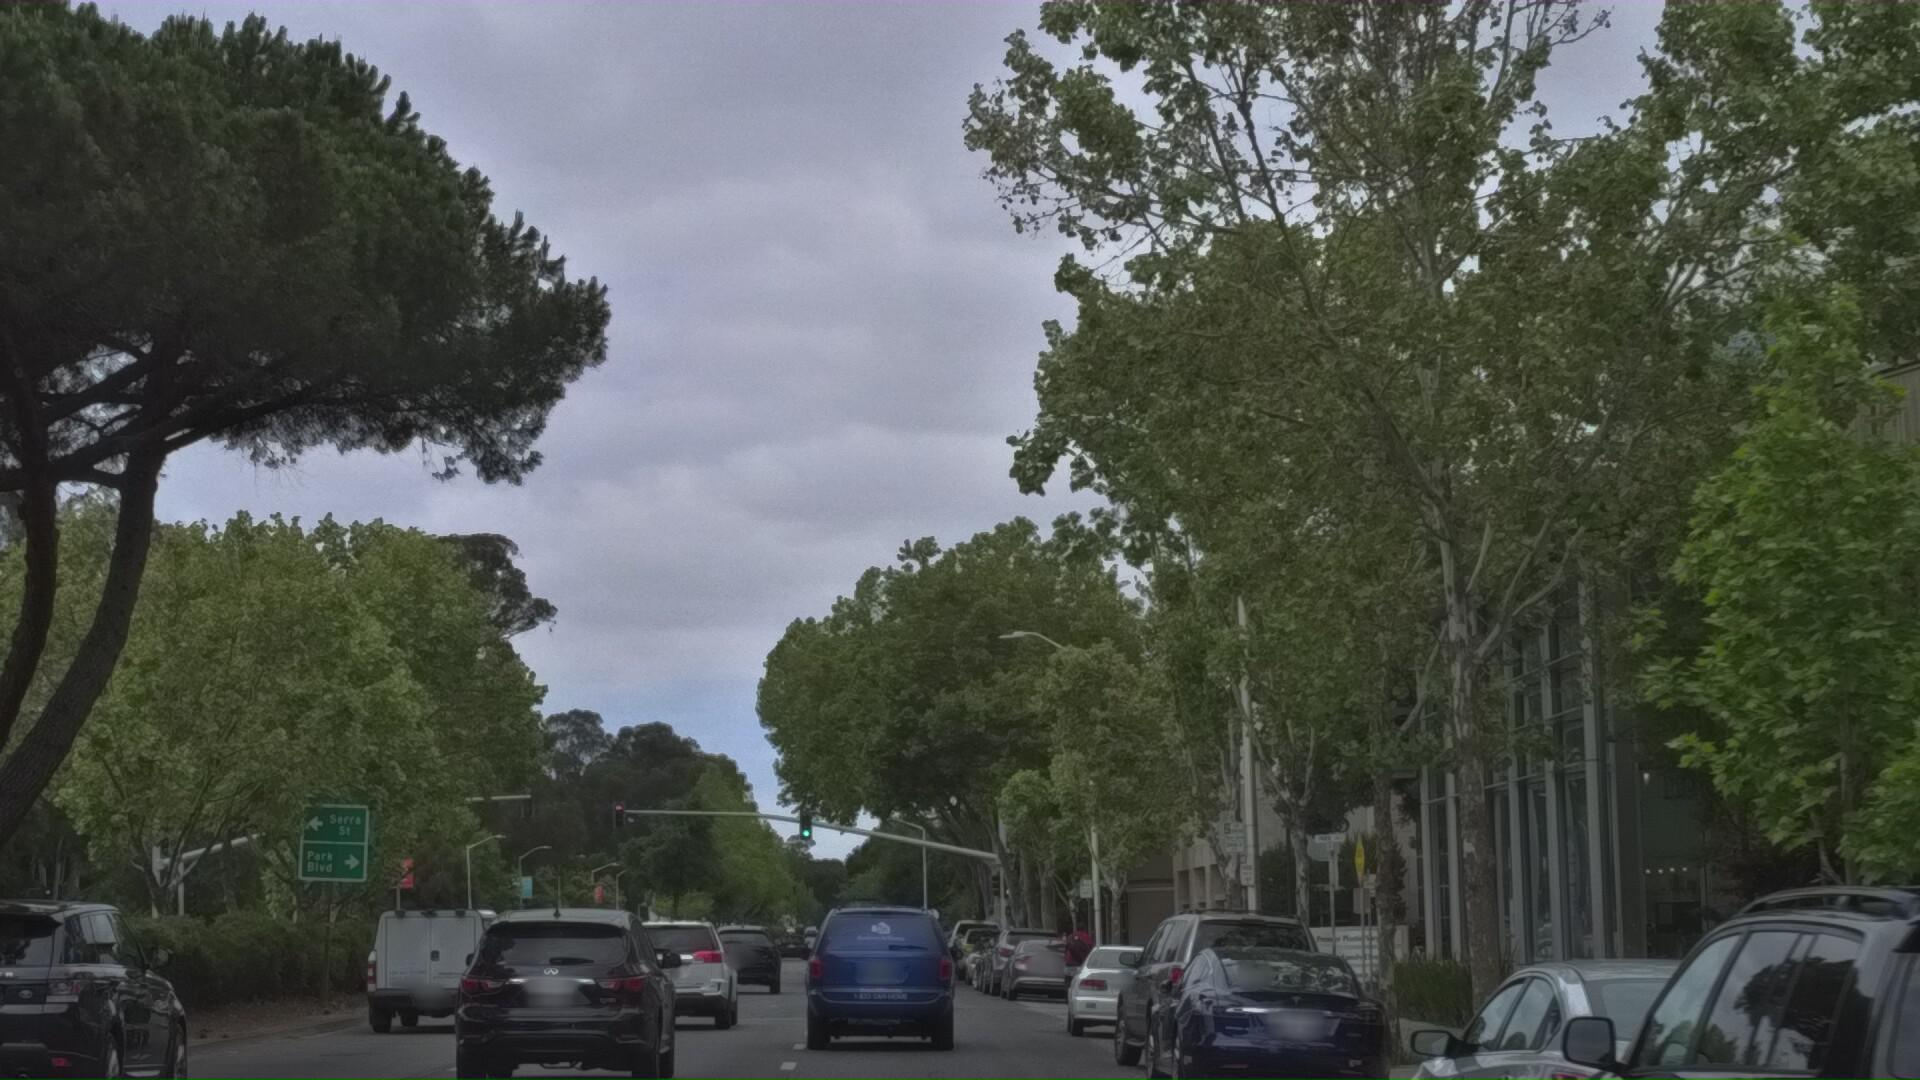bicycle: (1062, 953, 1117, 1058)
car: (1495, 858, 1920, 1080), (1379, 957, 1920, 1080), (444, 935, 707, 1080), (1120, 924, 1356, 1080), (0, 920, 224, 1080), (1145, 959, 1414, 1080), (798, 930, 976, 1080), (365, 938, 539, 1080), (621, 936, 777, 1080), (1075, 961, 1212, 1071), (1011, 951, 1110, 1029)
